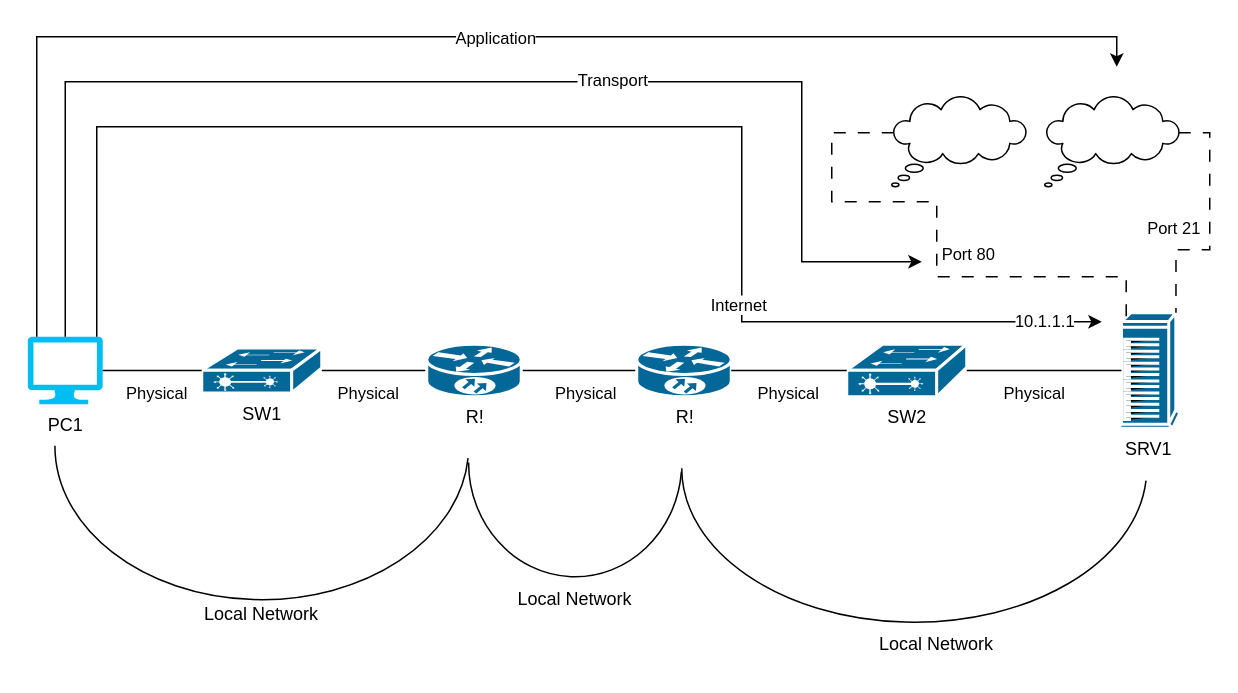
Some shapes in this 1238 by 693 pixel diagram are drawn without their labels. Here are the shapes that lost their labels. From the top down, the centre of each, then its label:
At point (958, 141): "web server".
At point (1111, 141): "file server".
